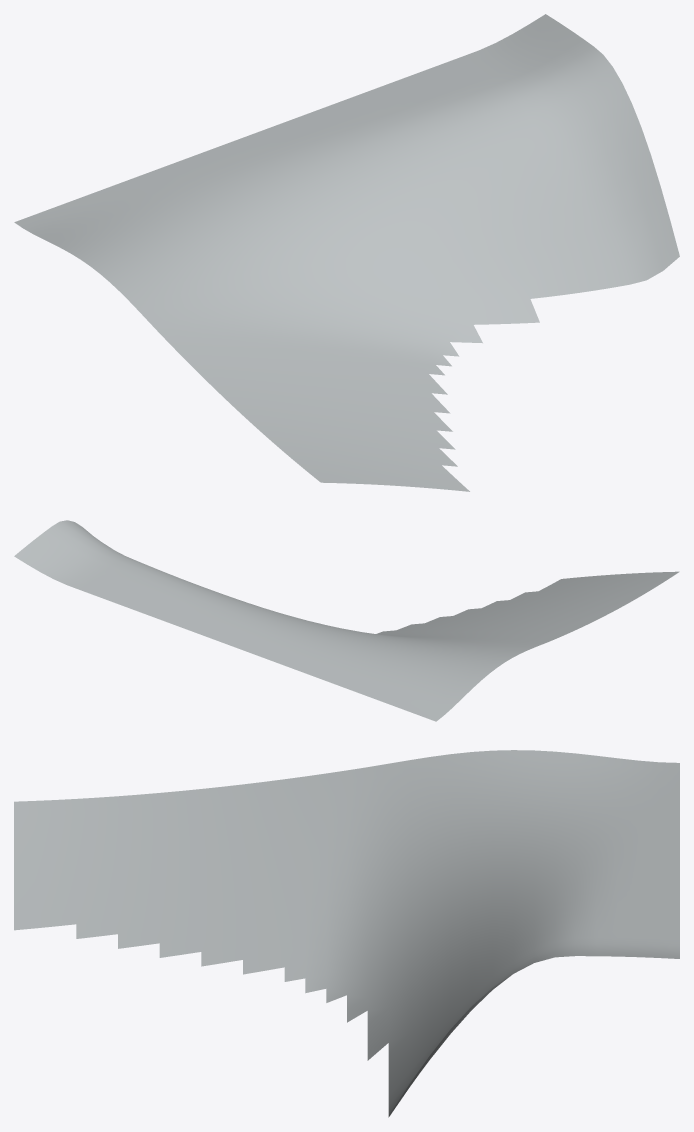
The model's file is alpine-10-3.glb.
3 renders of one model, top to bottom at view 1: azimuth 30°, elevation 25°; view 2: azimuth 150°, elevation 25°; view 3: azimuth 270°, elevation 25°, orthographic. The views are drawn at different scales.
Parts seen in each view (by area): view 1: alpine-10-3; view 2: alpine-10-3; view 3: alpine-10-3.
Boxes of the visible parts, box(x1,y1,x2,y2) form: alpine-10-3: box(14, 14, 679, 491); alpine-10-3: box(14, 520, 679, 721); alpine-10-3: box(14, 750, 679, 1117).
Bounding box in the file's own units: 256 × 78.01 × 256.
1 material, 1 textured.
